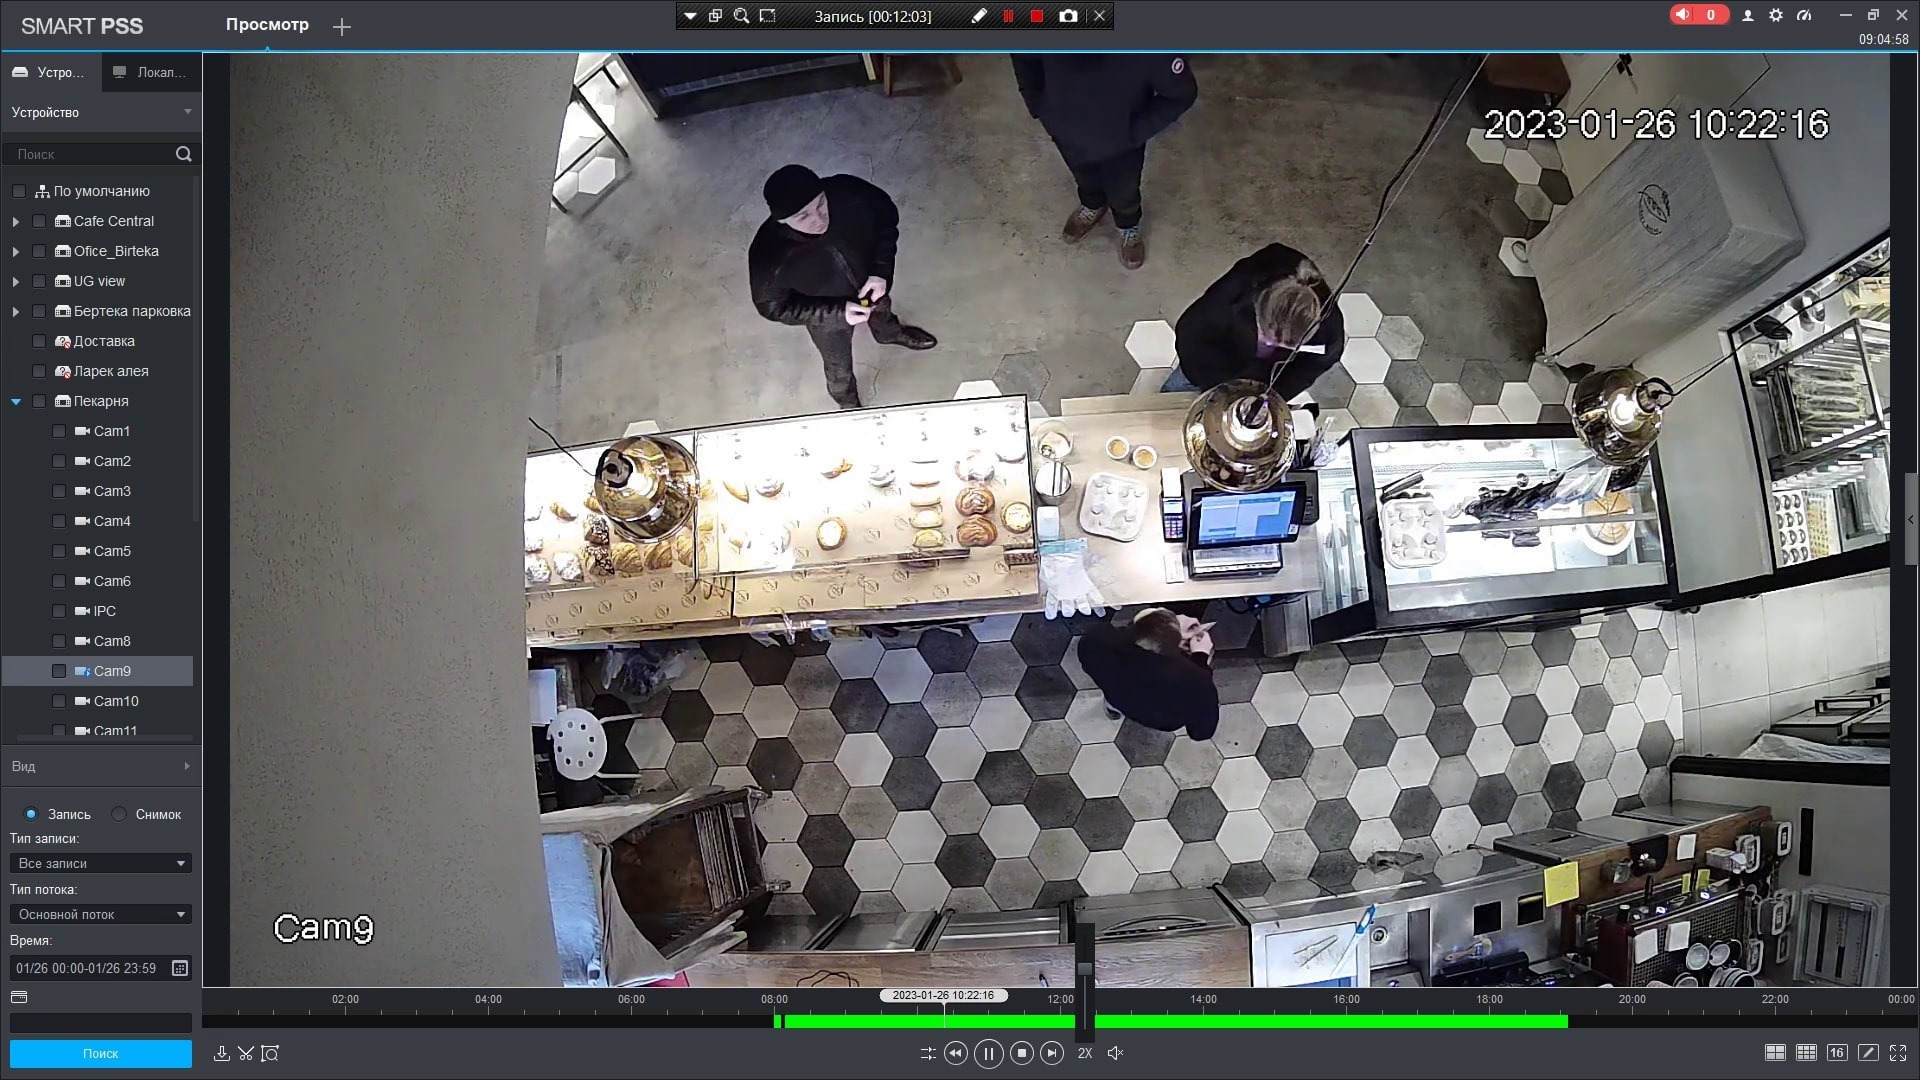barcounter: (527, 436, 1680, 632)
coffee: (1136, 441, 1159, 471), (1108, 436, 1132, 458)
person: (742, 166, 932, 403)
